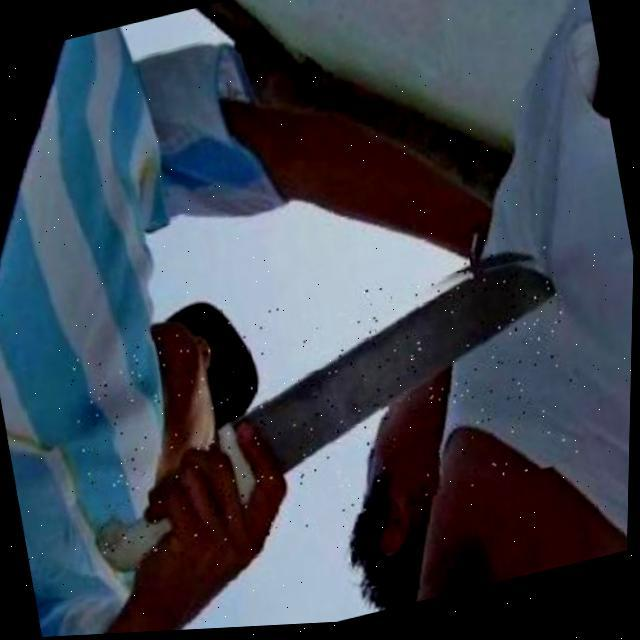knife: (63, 245, 594, 580)
